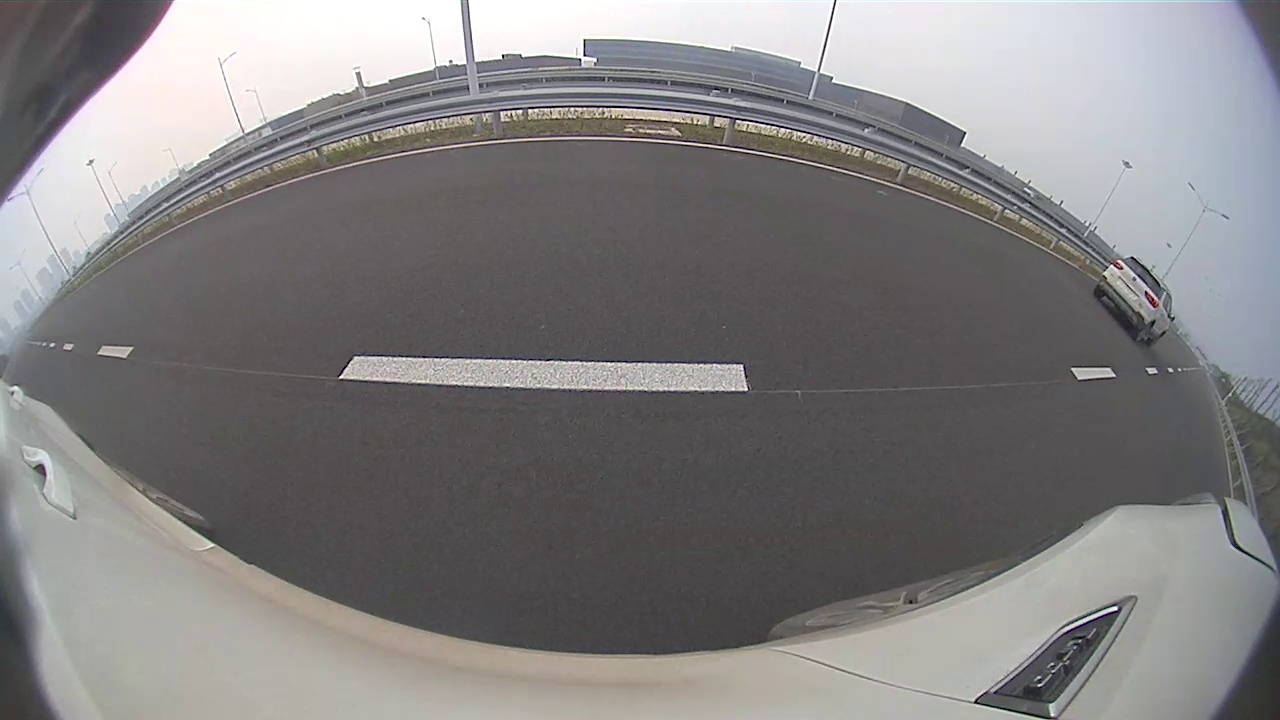car: (699, 151, 760, 193)
rear: (710, 173, 716, 191)
